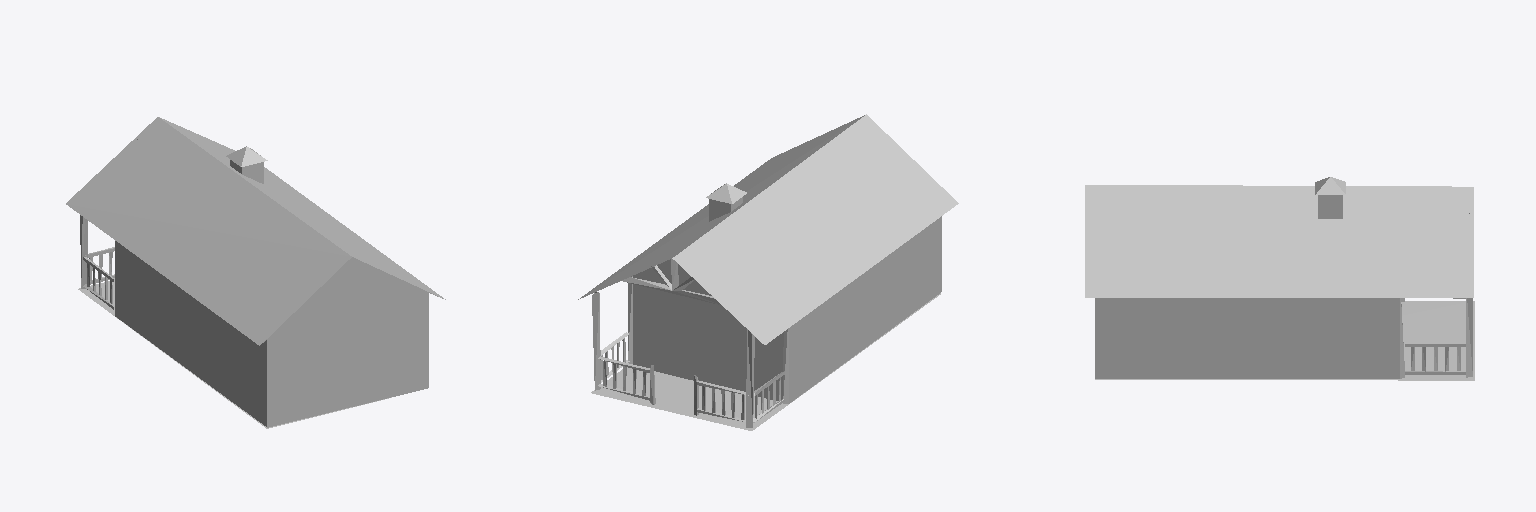
The model's file is home.obj.
The picture shows the model from 3 angles: view 1: azimuth 30°, elevation 25°; view 2: azimuth 150°, elevation 25°; view 3: azimuth 270°, elevation 25°; orthographic projection.
Parts seen in each view (by area): view 1: Cube; view 2: Cube; view 3: Cube.
Part boxes in pixels (bbox=[...]): Cube: bbox=[66, 117, 445, 428]; Cube: bbox=[578, 114, 958, 430]; Cube: bbox=[1085, 177, 1474, 380].
Size of the model in its own units: 1.68 by 1.5 by 3.02.